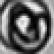correct: (0, 0, 51, 53)
